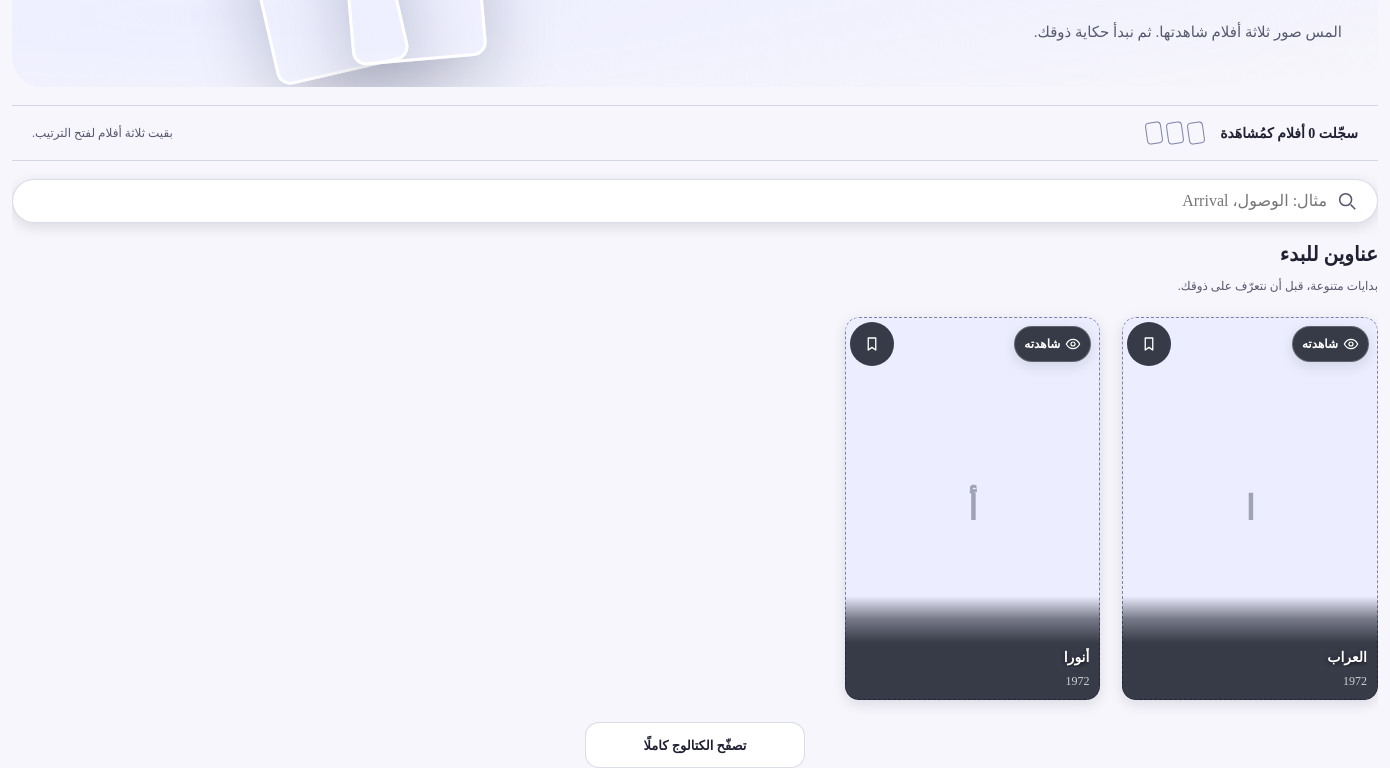
Test: DiscoverScreen › announces failed saving as an error and keeps the film unmarked
(page scrolled)
Click the button named "شاهدت «العراب»" at (1250, 509), box [1122,317,1378,700]
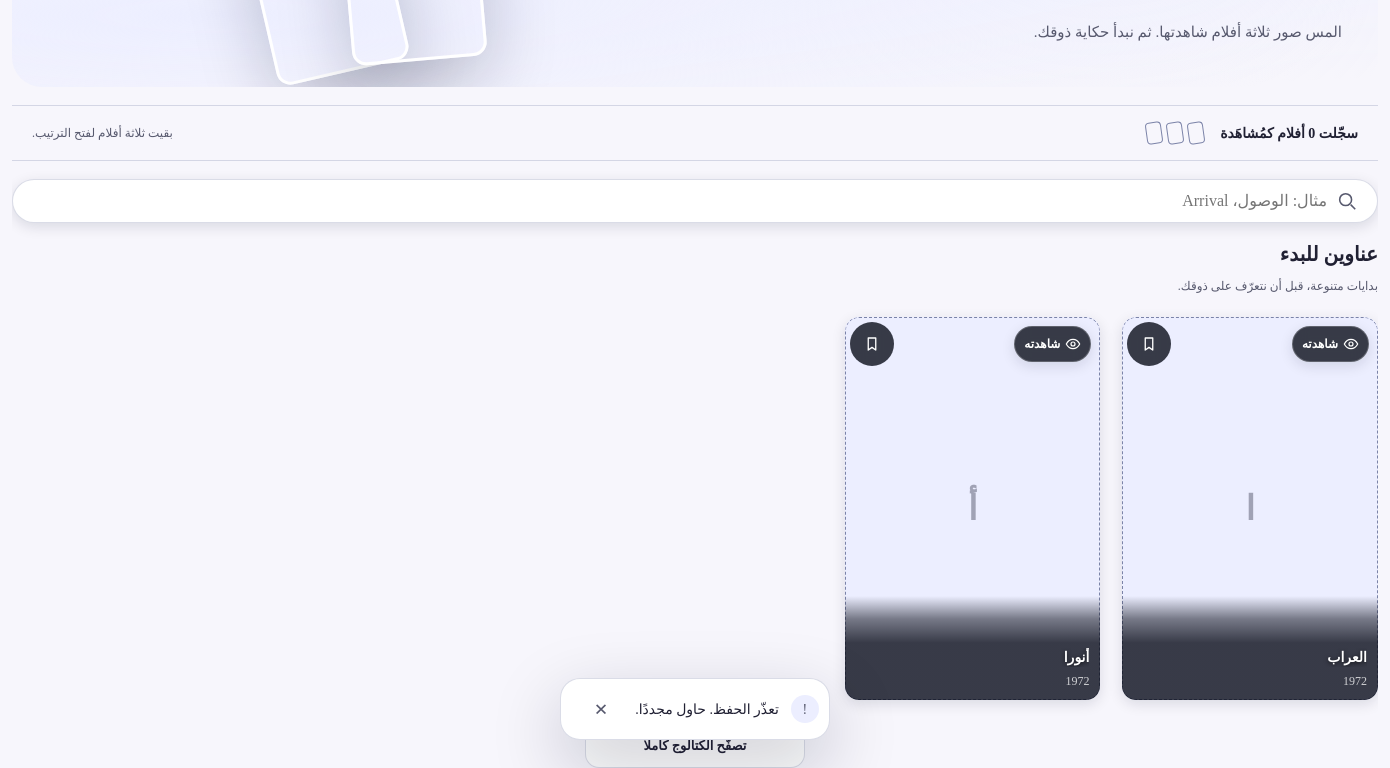
Expected: the message "تعذّر الحفظ. حاول مجددًا." is shown, [635,698,779,720]
